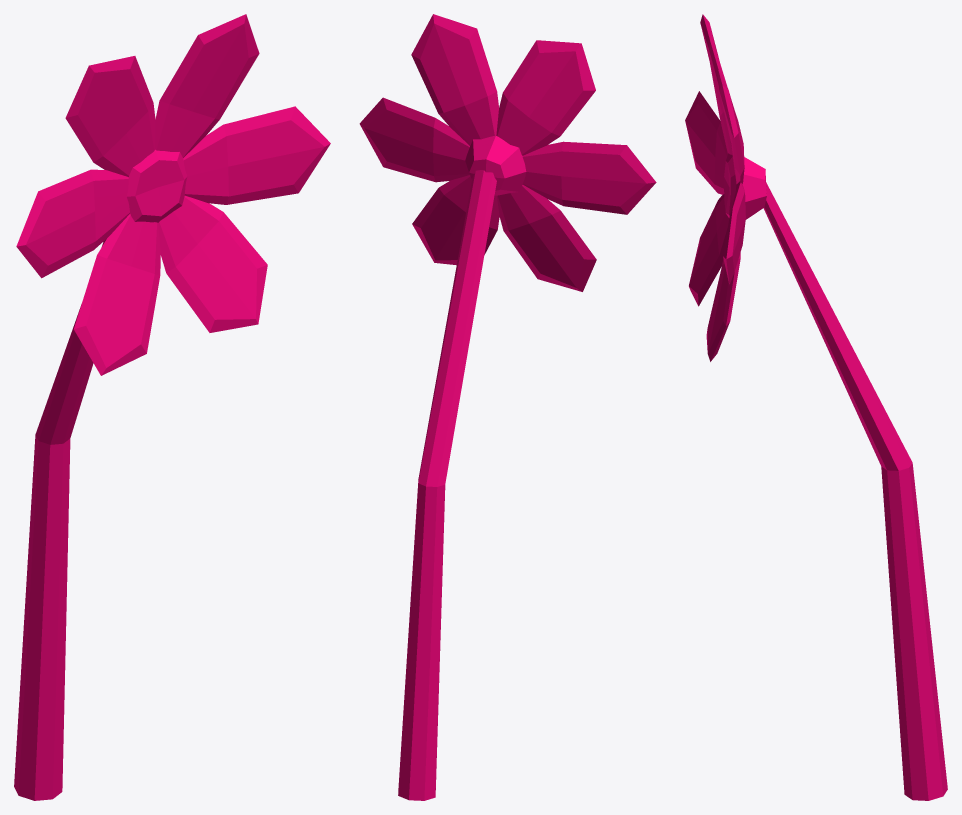
Rendered from SM_SS_Flower_2.fbx.
The picture shows the model from 3 angles, left to right: view 1: azimuth 30°, elevation 25°; view 2: azimuth 150°, elevation 25°; view 3: azimuth 270°, elevation 25°; orthographic projection. The views are drawn at different scales.
Parts seen in each view (by area): view 1: SM_SS_Flower_2; view 2: SM_SS_Flower_2; view 3: SM_SS_Flower_2.
Boxes of the visible parts, box(x1,y1,x2,y2) form: SM_SS_Flower_2: box(14, 14, 330, 800); SM_SS_Flower_2: box(359, 14, 656, 800); SM_SS_Flower_2: box(685, 14, 947, 800).
Size of the model in its own units: 8.1 by 6.12 by 19.25.
